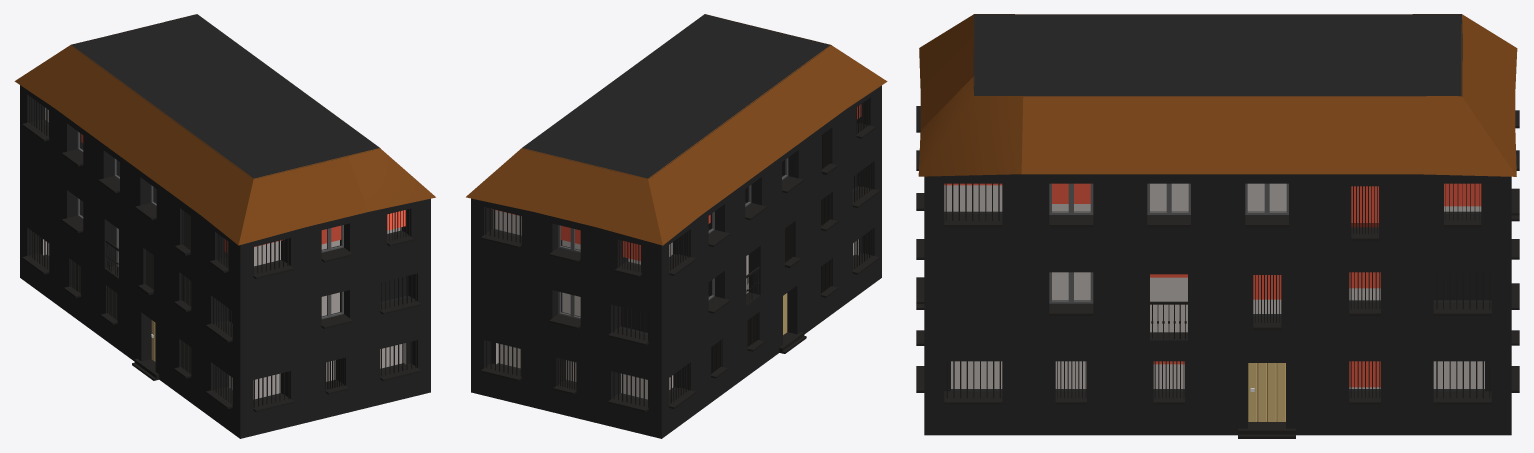
File: Casa_Procedural_2.fbx
3 views of the same model, side by side, from view 1: azimuth 30°, elevation 25°; view 2: azimuth 150°, elevation 25°; view 3: azimuth 270°, elevation 25° (orthographic). The views are drawn at different scales.
Parts seen in each view (by area): view 1: 2; view 2: 2; view 3: 2.
Boxes of the visible parts, bbox=[...] form: 2: bbox=[14, 14, 435, 438]; 2: bbox=[466, 14, 887, 438]; 2: bbox=[916, 14, 1519, 438].
Bounding box in the file's own units: 318 × 359 × 616.
